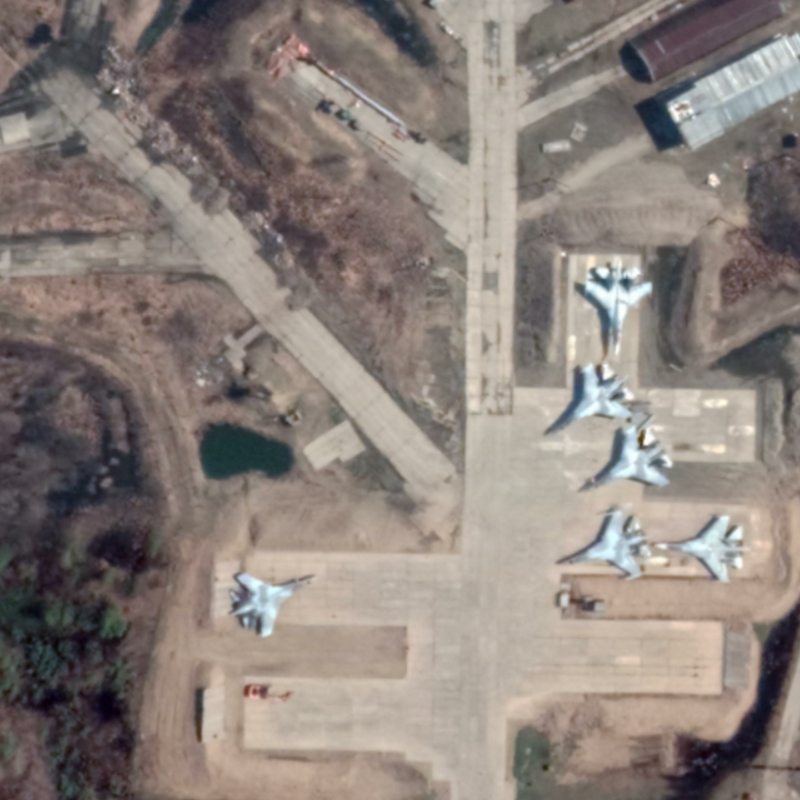A1: (543, 359, 638, 442), (552, 506, 652, 583), (582, 259, 654, 359), (577, 422, 673, 496), (653, 513, 749, 585), (225, 570, 320, 640)
